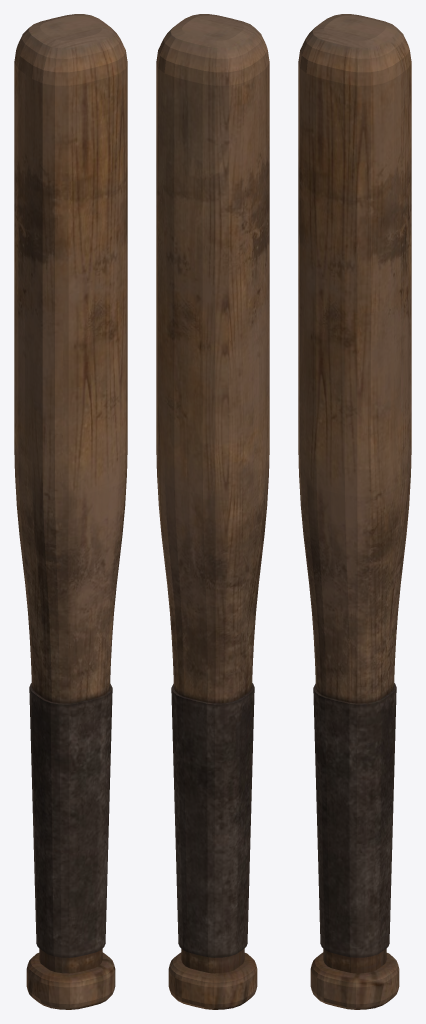
The model's file is bat.glb.
The picture shows the model from 3 angles, left to right: view 1: azimuth 30°, elevation 25°; view 2: azimuth 150°, elevation 25°; view 3: azimuth 330°, elevation 25°; orthographic projection.
Parts seen in each view (by area): view 1: Model__Scene___Root; view 2: Model__Scene___Root; view 3: Model__Scene___Root.
Boxes of the visible parts, bbox=[...] form: Model__Scene___Root: bbox=[14, 14, 127, 1009]; Model__Scene___Root: bbox=[156, 14, 269, 1009]; Model__Scene___Root: bbox=[298, 14, 411, 1009].
Size of the model in its own units: 0.0849 by 0.85 by 0.0785.
1 material, 1 textured.
